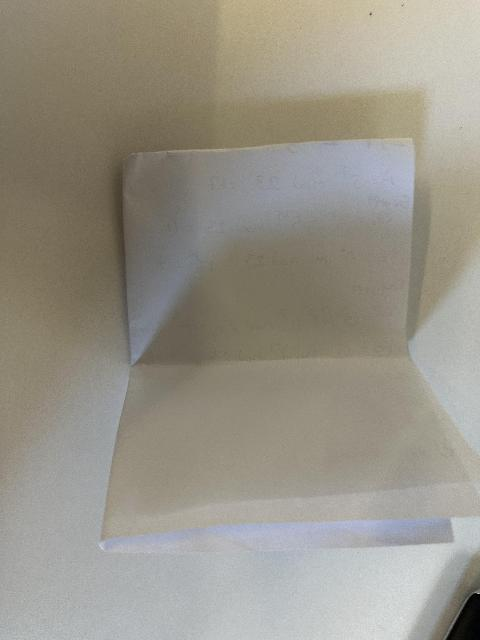Kagit: (97, 137, 480, 573)
